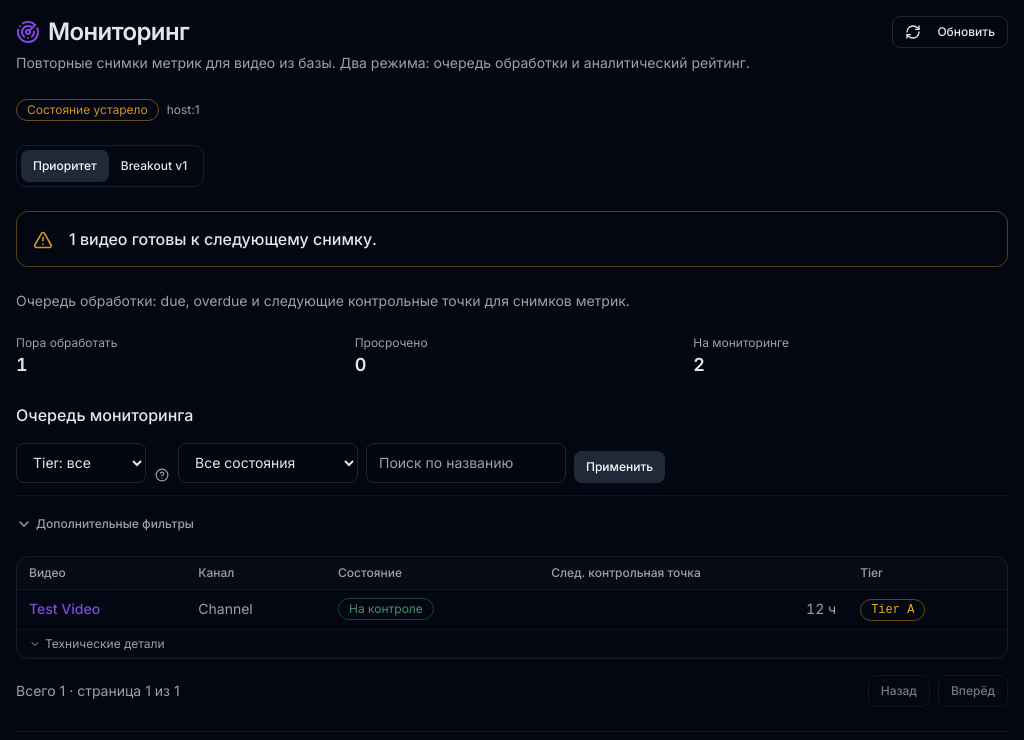
Scenario: MonitoringDashboard › keeps previous videos on refresh failure
Expected: the link "Test Video" is shown, top-left (29, 600), bottom-right (100, 617)
Step 1. Click the button with test id "monitoring-refresh" → (950, 32), box top-left (892, 16), bottom-right (1008, 48)
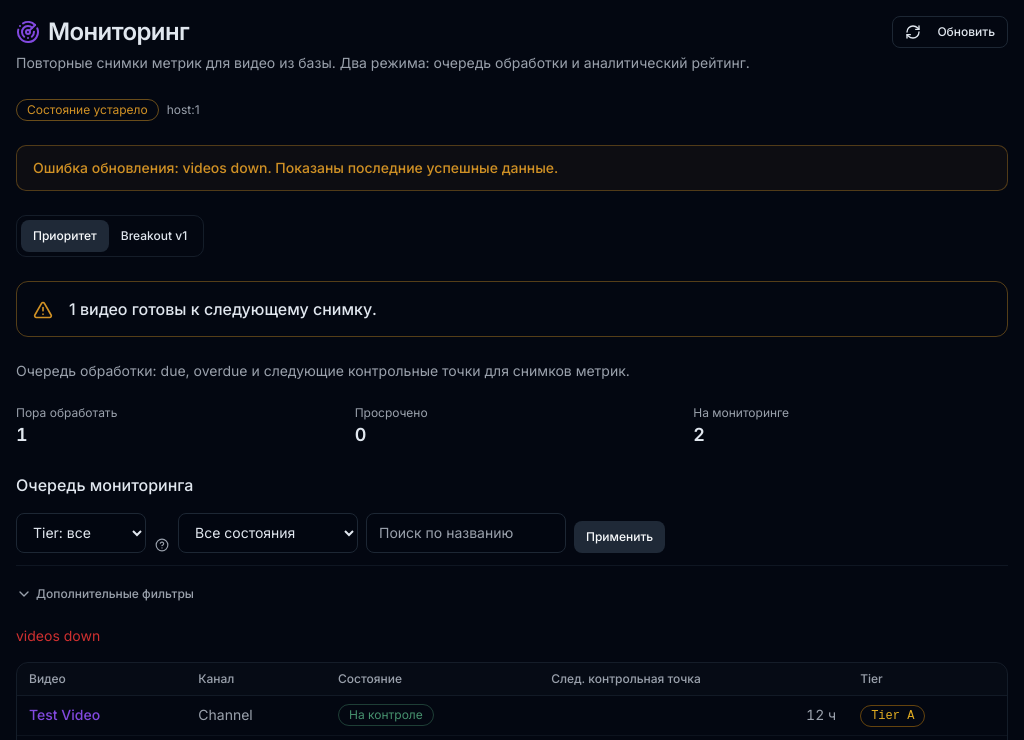
Expected: the link "Test Video" is shown, top-left (29, 706), bottom-right (100, 723)
Result: the text "Ошибка обновления" is shown at top-left (33, 159), bottom-right (558, 176)
